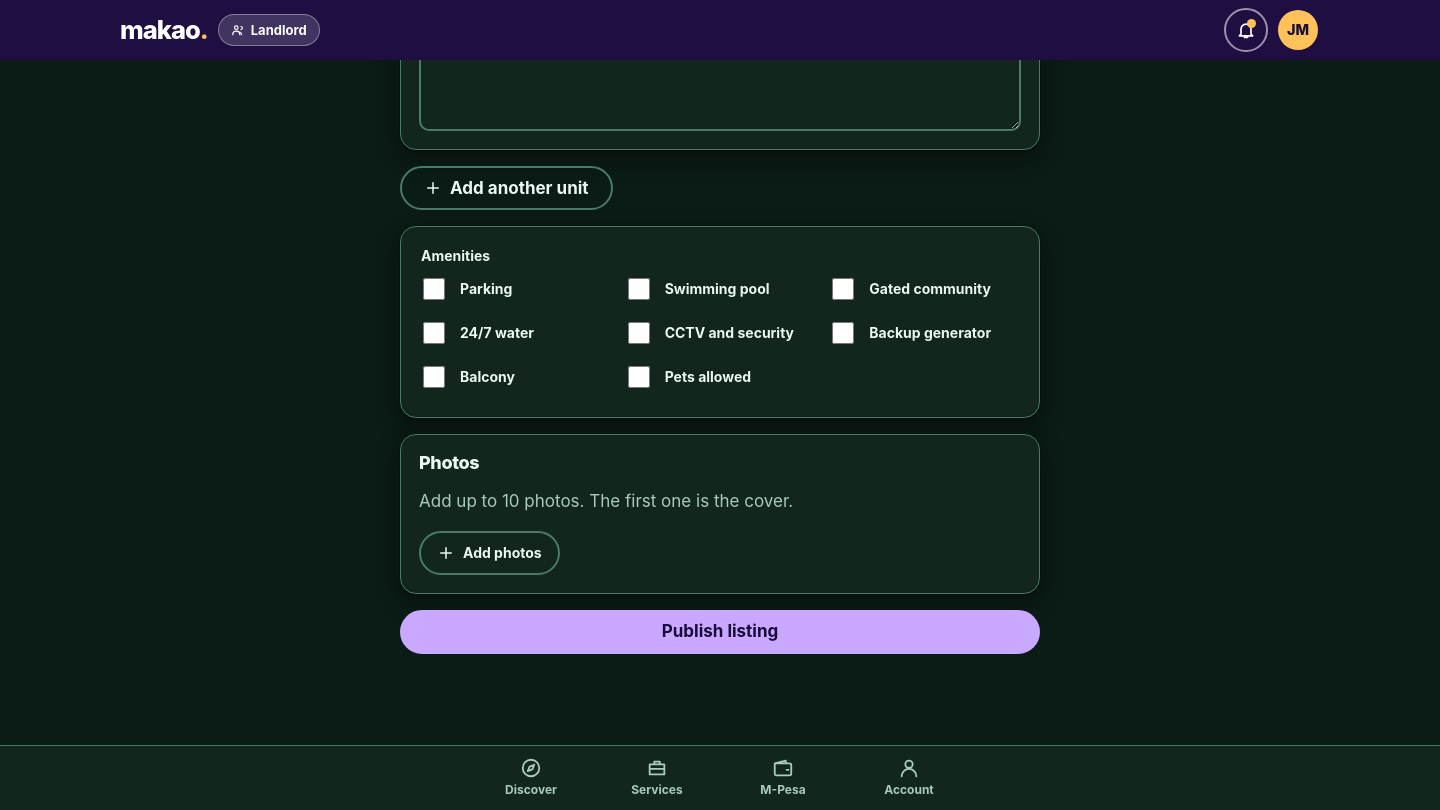
new app screens › landlord can add a property with a unit, and it shows in their list
Earlier steps of the test are not shown.
(page scrolled)
Click the button "Publish listing" at (720, 632), box [400,610,1040,654]
(page scrolled)
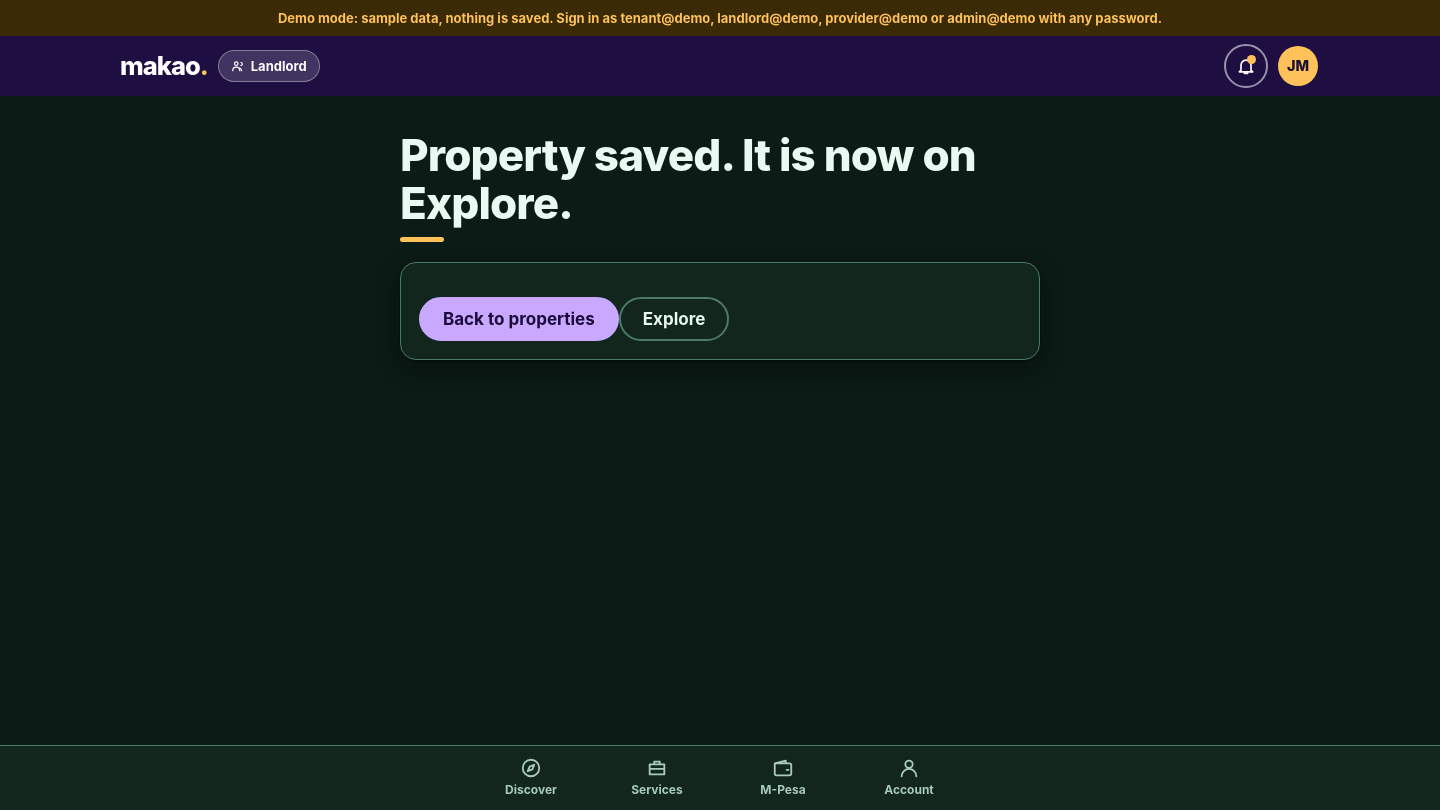
Now the heading "Property saved. It is now on Explore." is shown, box [400,132,1040,242]
